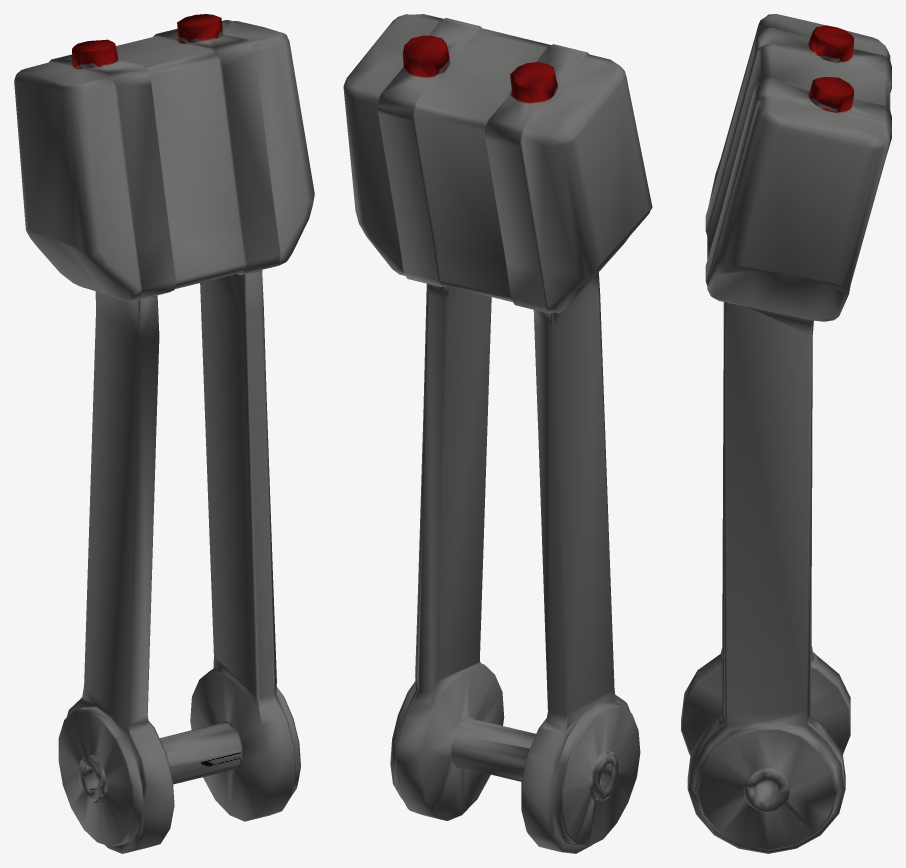
The model's file is throttle_v7.glb.
3 views of the same model, side by side, from view 1: azimuth 30°, elevation 25°; view 2: azimuth 150°, elevation 25°; view 3: azimuth 270°, elevation 25° (orthographic). The views are drawn at different scales.
Parts seen in each view (by area): view 1: tripo_node_7c004ae5-b04e-4bc1-a36c-37ea5; view 2: tripo_node_7c004ae5-b04e-4bc1-a36c-37ea5; view 3: tripo_node_7c004ae5-b04e-4bc1-a36c-37ea5.
Part boxes in pixels (x1,y1,x2,y2): tripo_node_7c004ae5-b04e-4bc1-a36c-37ea5: (14,14,314,853); tripo_node_7c004ae5-b04e-4bc1-a36c-37ea5: (343,14,652,853); tripo_node_7c004ae5-b04e-4bc1-a36c-37ea5: (681,14,891,853).
Bounding box in the file's own units: 0.321 × 1 × 0.2505.
Materials: 1 (1 with a texture image).
